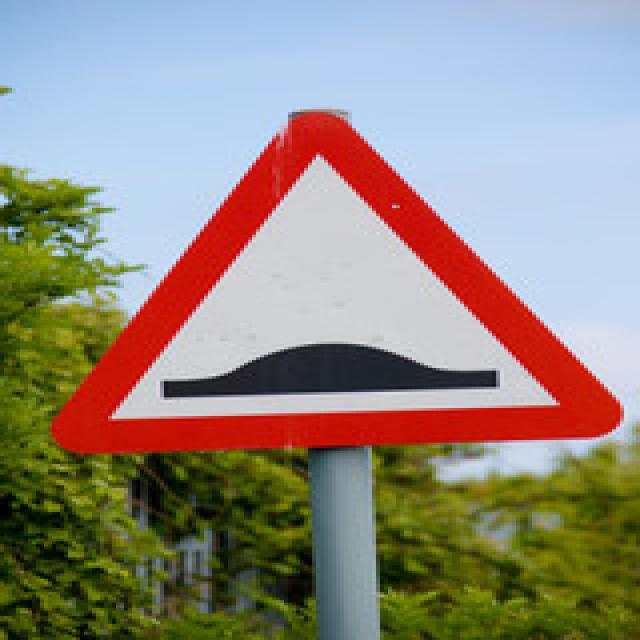hump: (48, 110, 627, 454)
